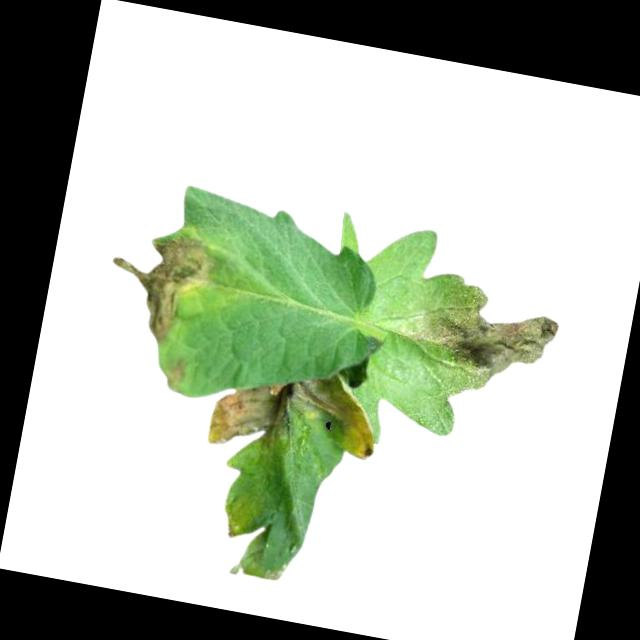Late_blight: (204, 351, 387, 475), (399, 268, 566, 401), (96, 222, 222, 350), (162, 357, 189, 393)
